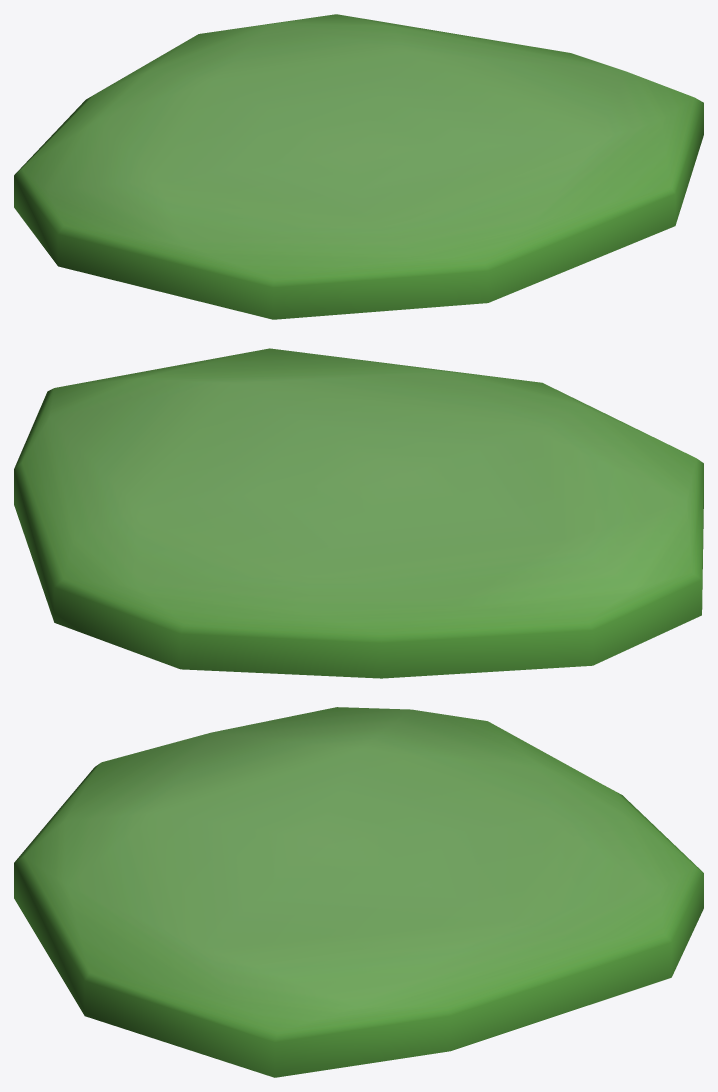
Rendered from Grass Patch 1.fbx.
The picture shows the model from 3 angles, top to bottom: view 1: azimuth 30°, elevation 25°; view 2: azimuth 150°, elevation 25°; view 3: azimuth 270°, elevation 25°; orthographic projection. The views are drawn at different scales.
Parts seen in each view (by area): view 1: Icosphere.001; view 2: Icosphere.001; view 3: Icosphere.001.
Boxes of the visible parts, x1=… form: Icosphere.001: x1=14, y1=14, x2=703, y2=319; Icosphere.001: x1=14, y1=348, x2=703, y2=678; Icosphere.001: x1=14, y1=707, x2=703, y2=1077.
Size of the model in its own units: 3017 by 243 by 2644.
